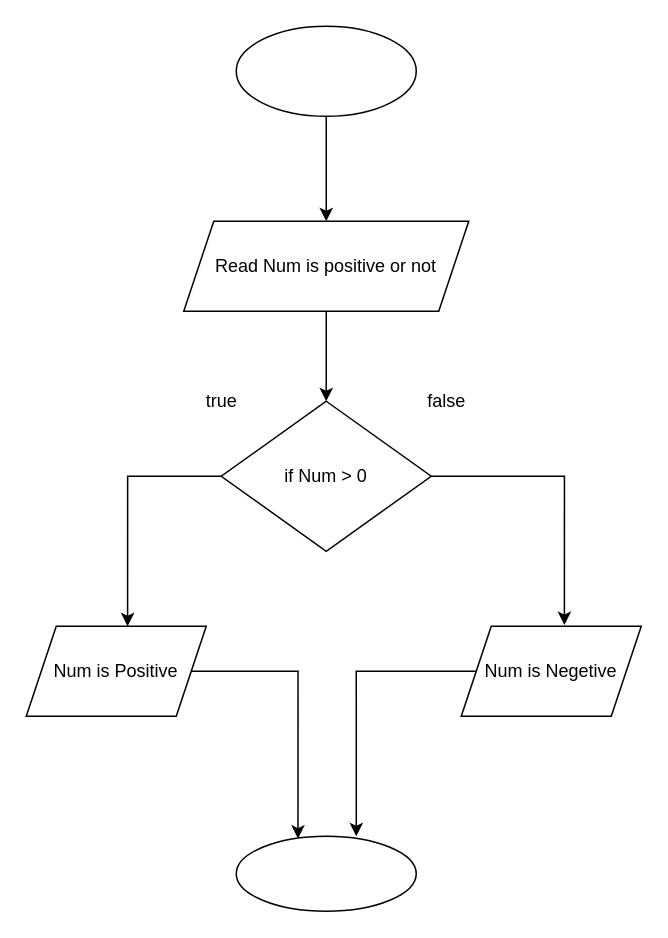
Image size: 668x938. Some labels were removed from this diagram. Here are the shapes that lost their labels. From the top down, the centre of each, then its label:
point 325,70: start
point 325,873: stop
